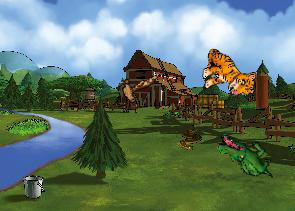crocodile: (213, 133, 278, 179)
eagle: (109, 59, 161, 117)
tiger: (200, 48, 257, 97)
